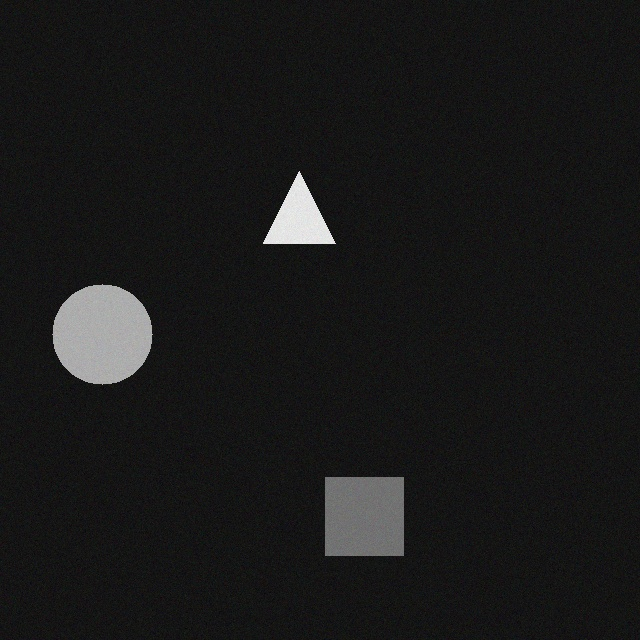circle: (54, 279, 154, 379)
square: (327, 472, 405, 550)
triangle: (265, 166, 337, 238)
